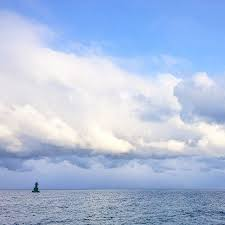sea: (1, 188, 224, 223)
sky: (1, 2, 223, 186)
